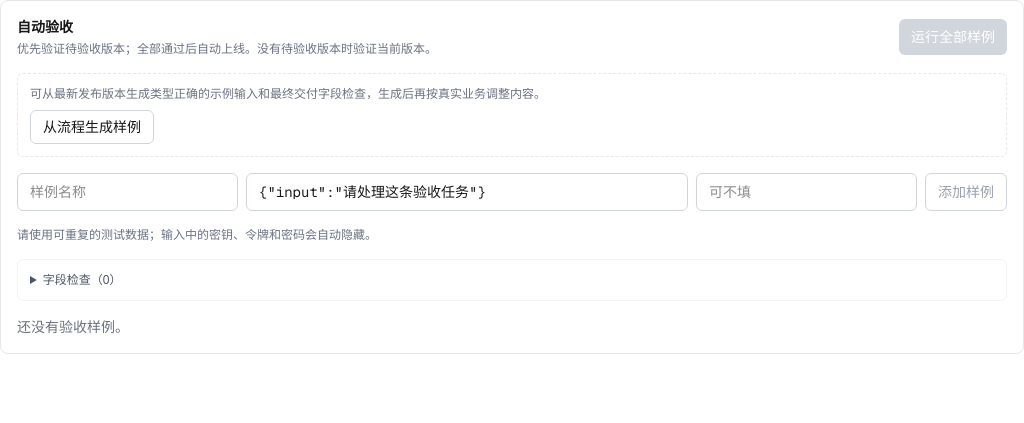
Test case: EvaluationPanel › 拒绝不是对象的 JSON 输入
Type "错误样例" into the field labelled "样例名称" at (128, 192), box [17,173,238,211]
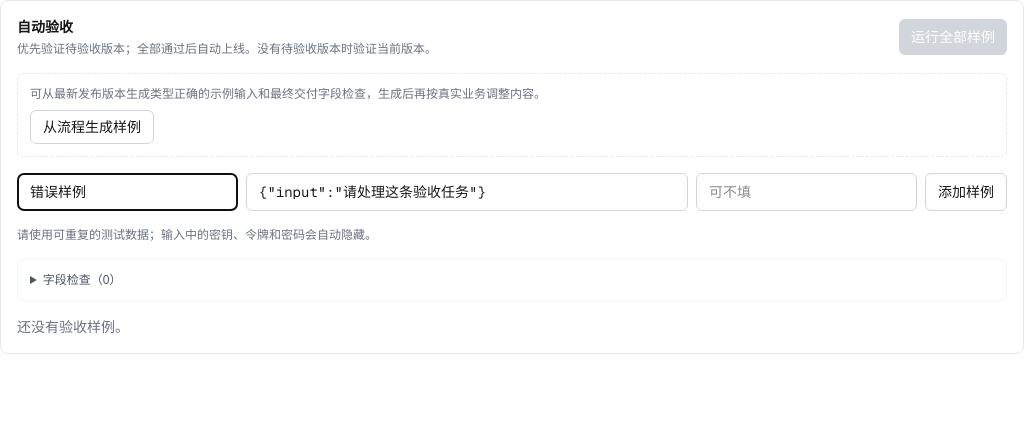
Replace the text in the field named "运行输入" with "[]" at (467, 192), box [246,173,688,211]
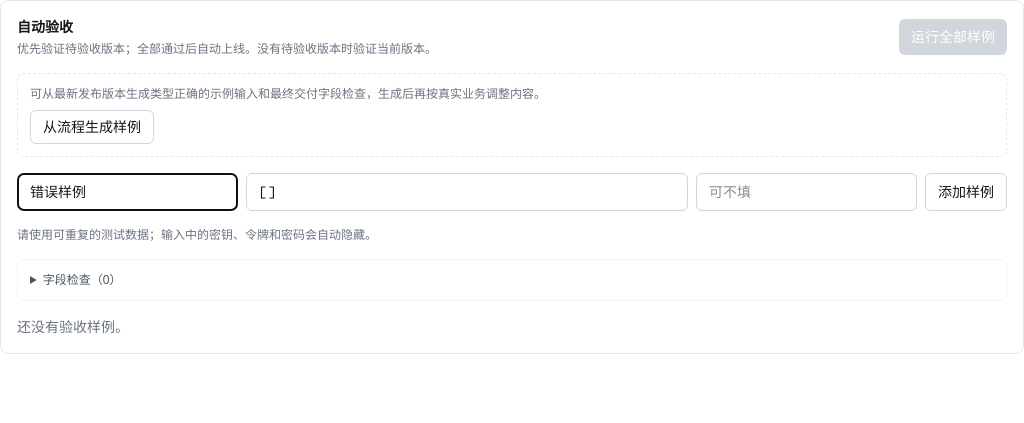
Click the button "添加样例" at (966, 192), box [925,173,1007,211]
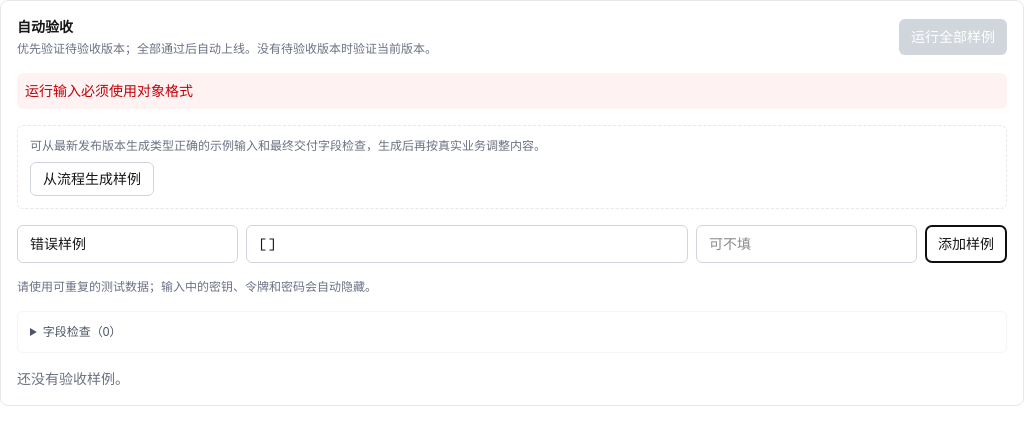
Expected: the message shows "对象格式", [25,83,193,99]
